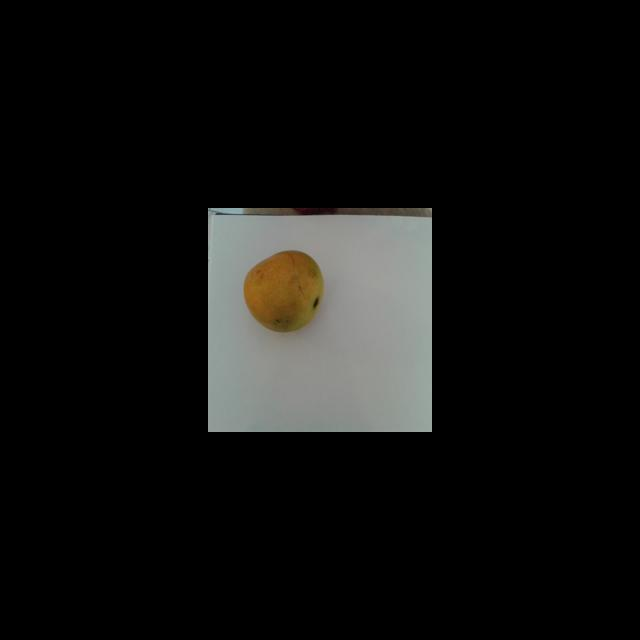Mango: (243, 249, 324, 332)
